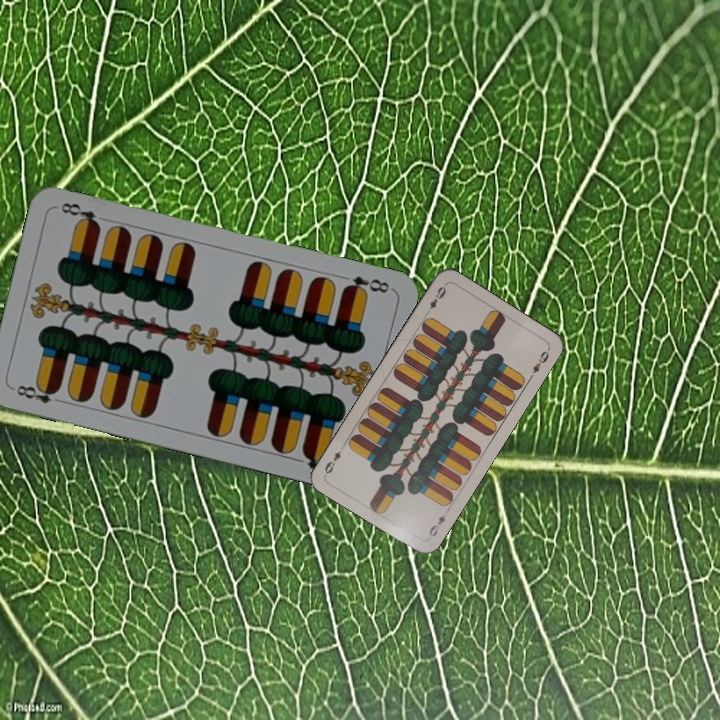E8: (9, 380, 67, 406), (339, 272, 392, 298)
E9: (423, 281, 449, 317), (425, 506, 451, 540)
